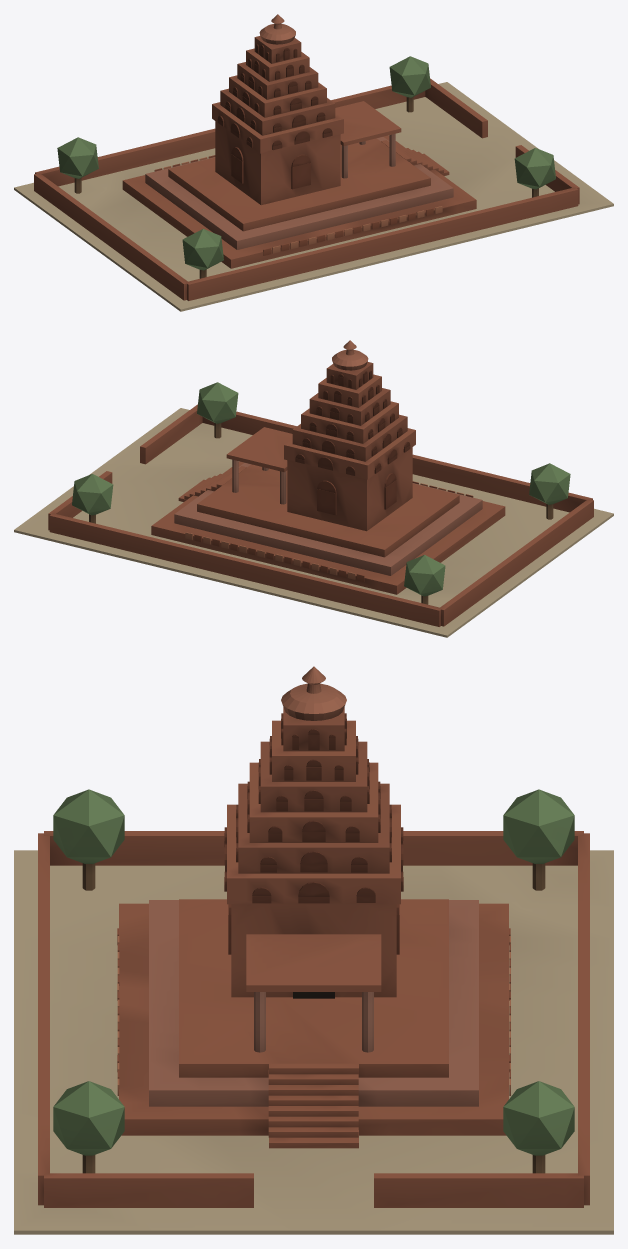
File: gupta-temple.glb
3 views of the same model, one above another, from view 1: azimuth 30°, elevation 25°; view 2: azimuth 150°, elevation 25°; view 3: azimuth 270°, elevation 25° (orthographic). The views are drawn at different scales.
Parts seen in each view (by area): view 1: p0_plinth, p3_trees, p1_sanctum and tower, p2_amalaka and porch; view 2: p0_plinth, p3_trees, p1_sanctum and tower, p2_amalaka and porch; view 3: p0_plinth, p3_trees, p1_sanctum and tower, p2_amalaka and porch.
Boxes of the visible parts, bbox=[...] form: p0_plinth: bbox=[14, 82, 613, 311]; p3_trees: bbox=[34, 56, 579, 300]; p1_sanctum and tower: bbox=[154, 36, 442, 255]; p2_amalaka and porch: bbox=[217, 14, 401, 178]; p0_plinth: bbox=[14, 408, 613, 637]; p3_trees: bbox=[48, 382, 593, 626]; p1_sanctum and tower: bbox=[185, 362, 473, 581]; p2_amalaka and porch: bbox=[226, 340, 410, 504]; p0_plinth: bbox=[14, 850, 613, 1234]; p3_trees: bbox=[38, 789, 589, 1207]; p1_sanctum and tower: bbox=[117, 707, 510, 1095]; p2_amalaka and porch: bbox=[224, 666, 403, 1052].
Size of the model in its own units: 60 by 25.5 by 40.
